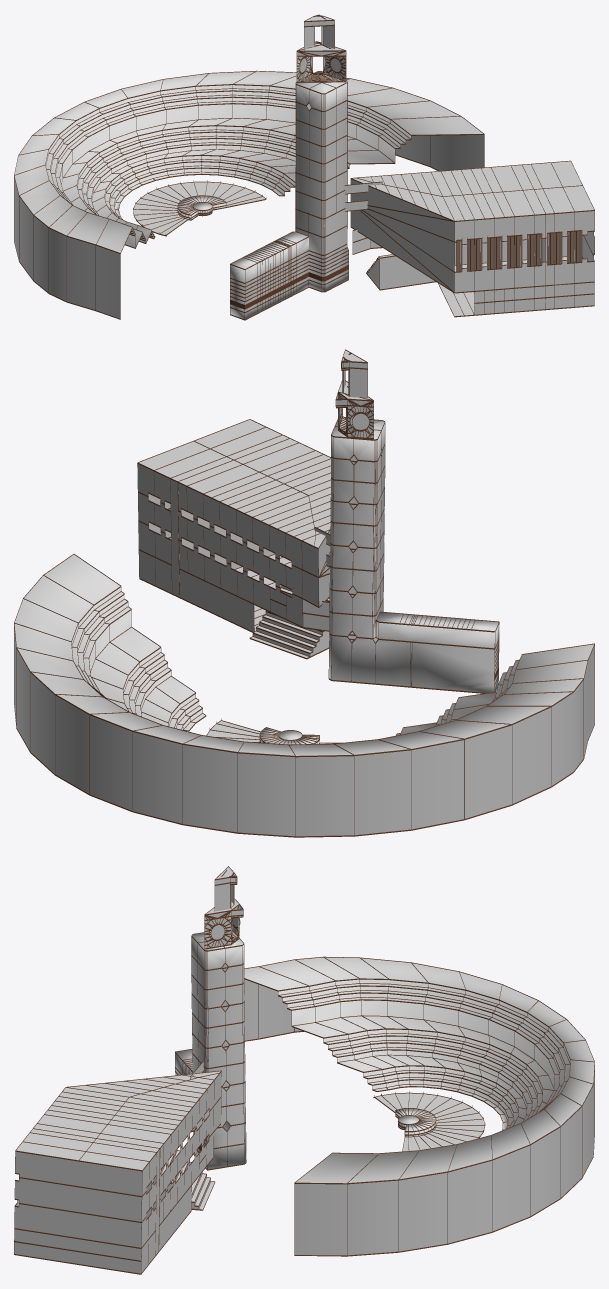
Rendered from clock2-transformed.glb.
3 renders of one model, top to bottom at view 1: azimuth 30°, elevation 25°; view 2: azimuth 150°, elevation 25°; view 3: azimuth 270°, elevation 25°, orthographic. The views are drawn at different scales.
Visible parts, largest first — view 1: Cube; view 2: Cube; view 3: Cube.
Part boxes in pixels (<box>): Cube: <box>14,14,594,320</box>; Cube: <box>14,349,594,837</box>; Cube: <box>14,866,594,1274</box>.
Size of what is drawn, in the model's own units: 8.82 by 5.1 by 9.21.
